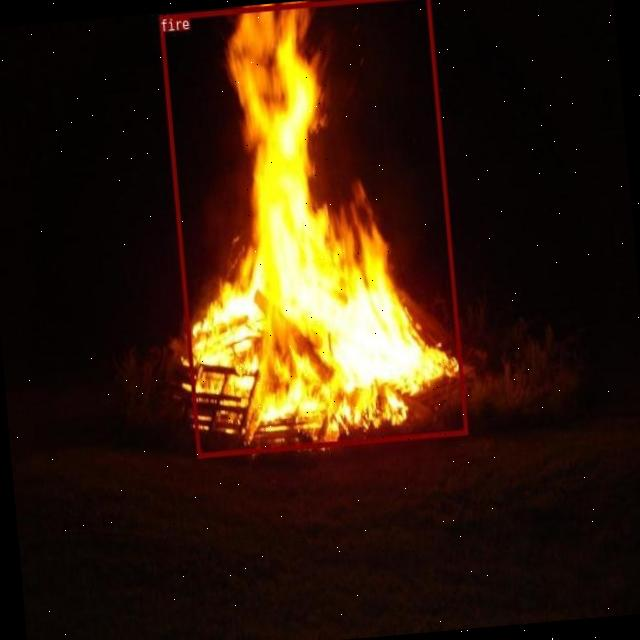fire: (158, 0, 467, 456)
